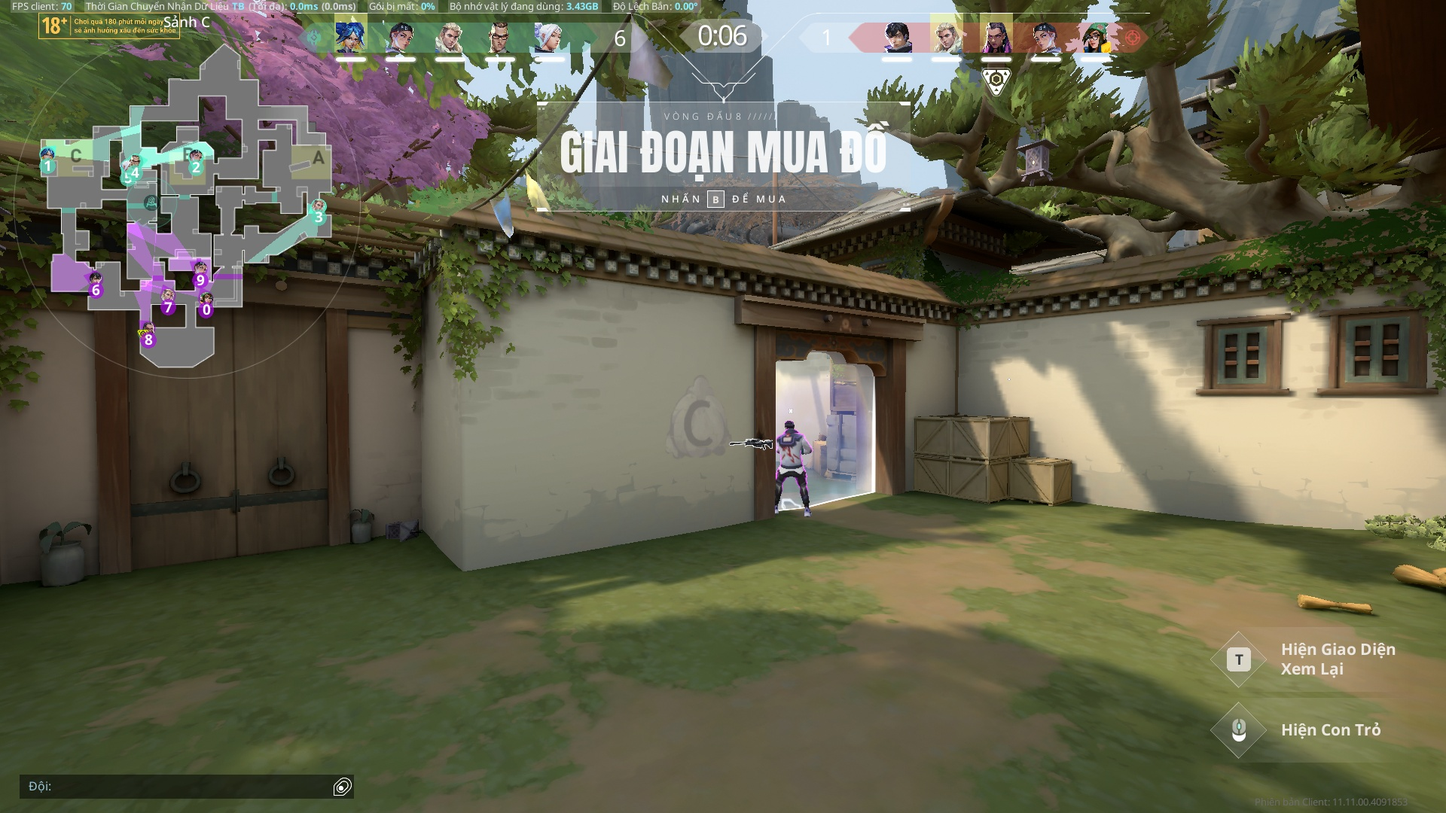body: (776, 430, 808, 459)
head: (783, 420, 795, 431)
